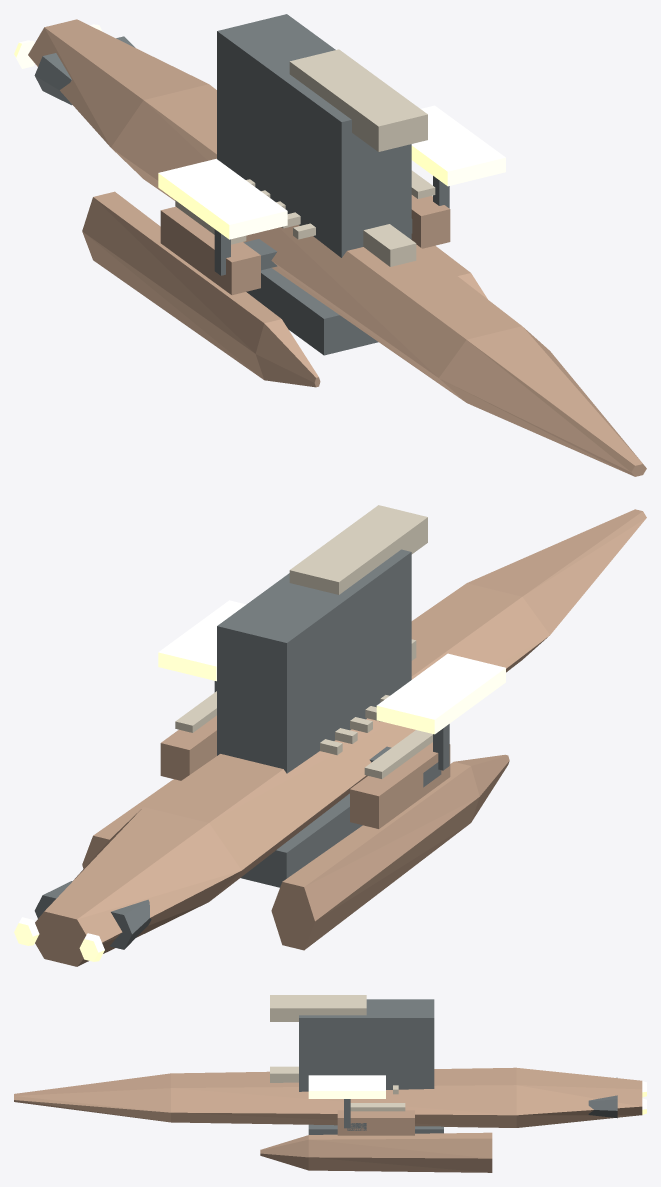
3 views of the same model, one above another, from view 1: azimuth 30°, elevation 25°; view 2: azimuth 150°, elevation 25°; view 3: azimuth 270°, elevation 25° (orthographic). The views are drawn at different scales.
Bounding box in the file's own units: 3.23 × 2.94 × 11.79.
